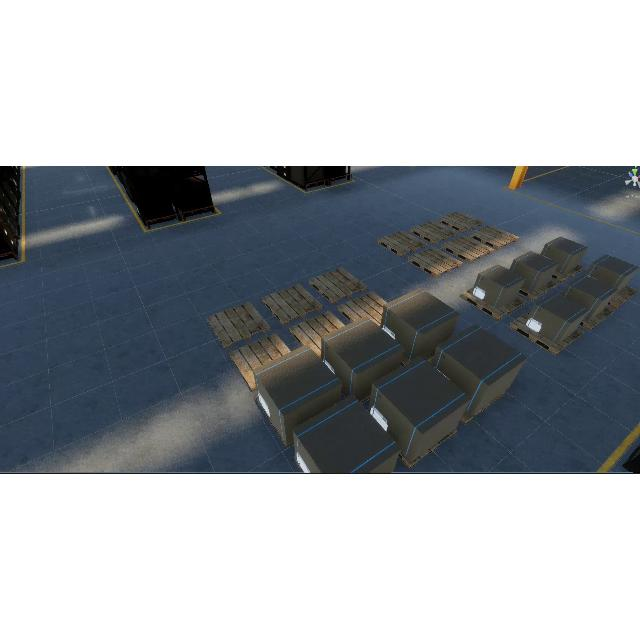wooden_pallet: (407, 247, 463, 278), (441, 236, 494, 263), (376, 230, 427, 257), (409, 220, 458, 245), (468, 226, 519, 250), (438, 210, 484, 233)
